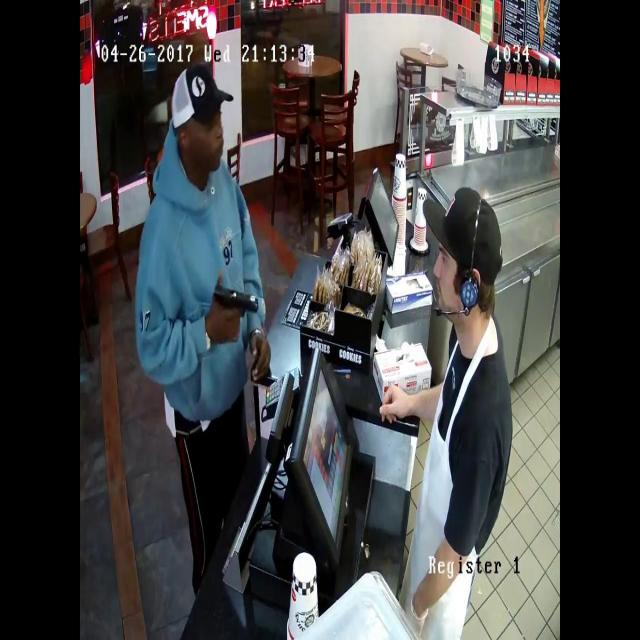gun: (204, 271, 267, 336)
